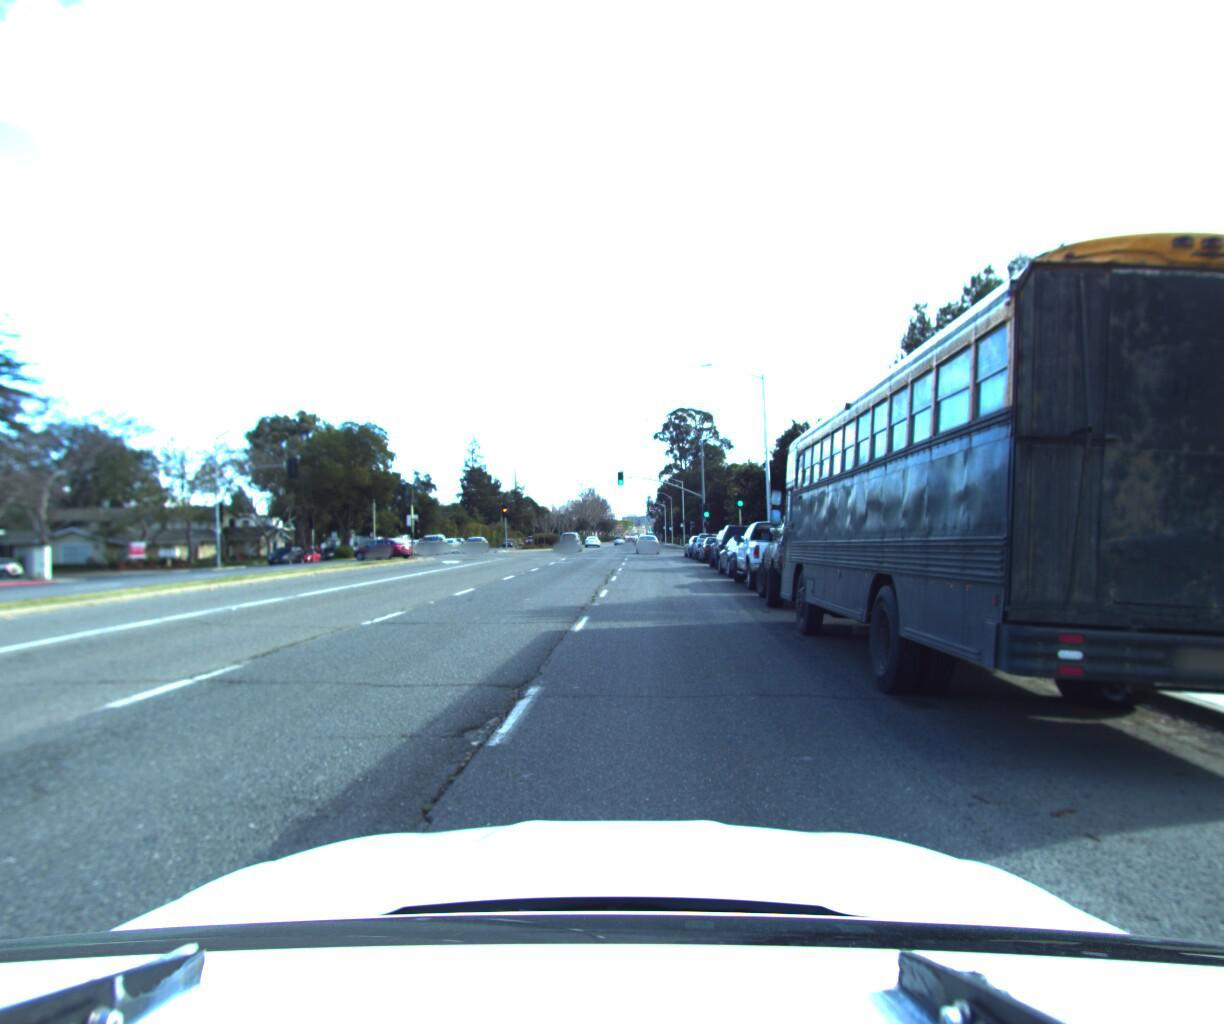bus: (770, 203, 1224, 784)
car: (732, 508, 833, 588), (711, 517, 766, 566), (350, 535, 416, 563), (695, 527, 731, 556), (270, 543, 311, 564), (0, 555, 32, 580), (292, 546, 328, 563), (464, 530, 494, 549), (557, 526, 582, 548), (633, 529, 658, 549), (437, 533, 465, 550), (0, 547, 10, 578)
